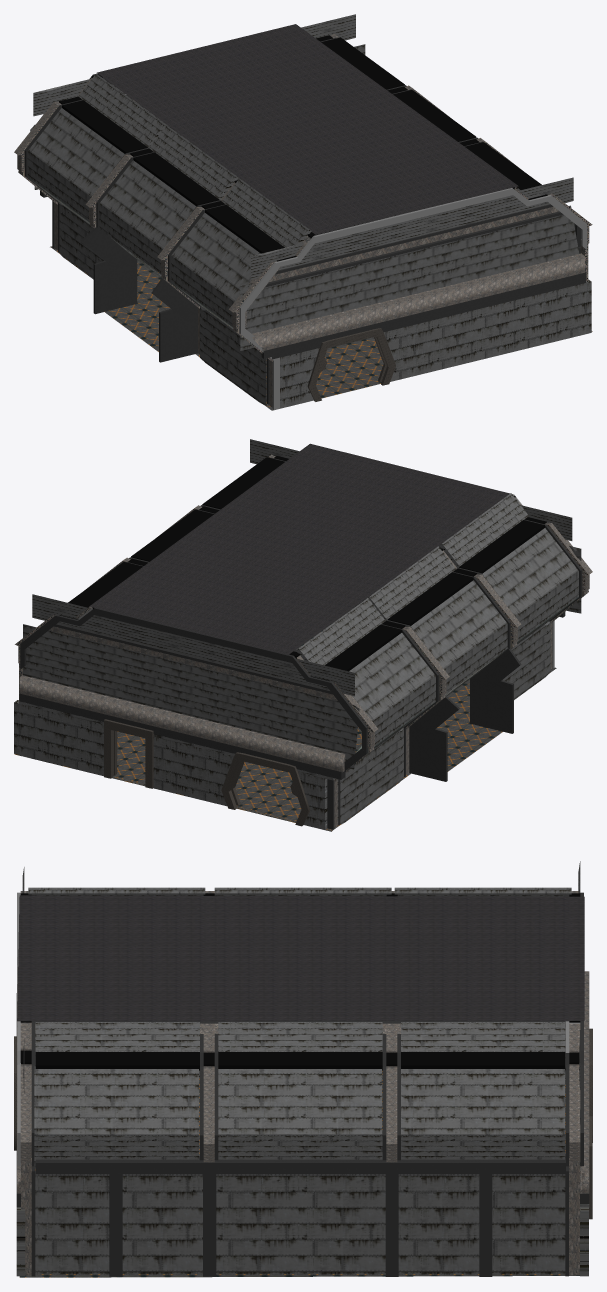
Rendered from hangar.obj.
3 renders of one model, top to bottom at view 1: azimuth 30°, elevation 25°; view 2: azimuth 150°, elevation 25°; view 3: azimuth 270°, elevation 25°, orthographic. The views are drawn at different scales.
Parts seen in each view (by area): view 1: pasted__pasted__polySurface2548 pasted__pasted__polySurface2160 , polySurface2419 polySurface2160, polySurface2160 polySurface2450, pasted__pasted__polySurface2502 pasted__pasted__polySurface2160 , pasted__polySurface2548 pasted__polySurface2160 group18, polySurface2160 polySurface2421, polySurface2160 polySurface2423, polySurface2160 polySurface2422, polySurface2160 polySurface2731, polySurface2160 polySurface2730, polySurface2160 polySurface2732, pasted__pasted__pasted__polySurface2725 pasted__pasted__pasted__ (+28 smaller); view 2: pasted__pasted__polySurface2548 pasted__pasted__polySurface2160 , pasted__polySurface2548 pasted__polySurface2160 group18, polySurface2160 polySurface2512, pasted__polySurface2502 pasted__polySurface2160 group1, polySurface2160 polySurface2502, polySurface2160 polySurface2503, polySurface2160 polySurface2501, polySurface2160 polySurface2539, polySurface2160 polySurface2732, polySurface2160 polySurface2731, polySurface2160 polySurface2730, polySurface2160 polySurface2722 (+30 smaller); view 3: pasted__pasted__polySurface2548 pasted__pasted__polySurface2160 , polySurface2160 polySurface2725, pasted__polySurface2725 pasted__polySurface2160 group3, pasted__polySurface2725 pasted__polySurface2160 group4, polySurface2160 polySurface2718, polySurface2160 polySurface2719, polySurface2160 polySurface2720, polySurface2160 polySurface2640, polySurface2160 polySurface2663, polySurface2160 polySurface2664, polySurface2160 polySurface2665, polySurface2160 polySurface2724 (+23 smaller).
Part boxes in pixels (box(x1,y1,x2,y2)): pasted__pasted__polySurface2548 pasted__pasted__polySurface2160 : box(97, 24, 518, 234); polySurface2419 polySurface2160: box(383, 279, 591, 381); polySurface2160 polySurface2450: box(252, 253, 584, 351); pasted__pasted__polySurface2502 pasted__pasted__polySurface2160 : box(251, 177, 573, 279); pasted__polySurface2548 pasted__polySurface2160 group18: box(50, 246, 592, 410); polySurface2160 polySurface2421: box(354, 238, 467, 308); polySurface2160 polySurface2423: box(240, 266, 354, 350); polySurface2160 polySurface2422: box(468, 205, 579, 280); polySurface2160 polySurface2731: box(99, 160, 196, 249); polySurface2160 polySurface2730: box(28, 108, 124, 196); polySurface2160 polySurface2732: box(171, 213, 260, 301); pasted__pasted__pasted__polySurface2725 pasted__pasted__pasted__: box(200, 306, 266, 405); pasted__pasted__polySurface2548 pasted__pasted__polySurface2160 : box(89, 443, 509, 654); pasted__polySurface2548 pasted__polySurface2160 group18: box(14, 618, 556, 831); polySurface2160 polySurface2512: box(19, 675, 345, 772); pasted__polySurface2502 pasted__polySurface2160 group1: box(32, 594, 354, 696); polySurface2160 polySurface2502: box(136, 652, 250, 730); polySurface2160 polySurface2503: box(23, 624, 136, 702); polySurface2160 polySurface2501: box(250, 679, 359, 769); polySurface2160 polySurface2539: box(14, 700, 103, 775); polySurface2160 polySurface2732: box(482, 528, 578, 616); polySurface2160 polySurface2731: box(410, 580, 506, 668); polySurface2160 polySurface2730: box(349, 633, 435, 721); polySurface2160 polySurface2722: box(153, 737, 233, 805); pasted__pasted__polySurface2548 pasted__pasted__polySurface2160 : box(17, 895, 584, 1021); polySurface2160 polySurface2725: box(216, 1174, 385, 1274); pasted__polySurface2725 pasted__polySurface2160 group3: box(35, 1172, 202, 1274); pasted__polySurface2725 pasted__polySurface2160 group4: box(398, 1174, 565, 1274); polySurface2160 polySurface2718: box(34, 1066, 198, 1134); polySurface2160 polySurface2719: box(218, 1069, 381, 1134); polySurface2160 polySurface2720: box(401, 1069, 564, 1134); polySurface2160 polySurface2640: box(35, 1156, 565, 1174); polySurface2160 polySurface2663: box(401, 1022, 565, 1051); polySurface2160 polySurface2664: box(218, 1022, 382, 1051); polySurface2160 polySurface2665: box(35, 1022, 199, 1051); polySurface2160 polySurface2724: box(34, 1134, 198, 1167).
Bounding box in the file's own units: 82.07 × 35.76 × 86.66.
